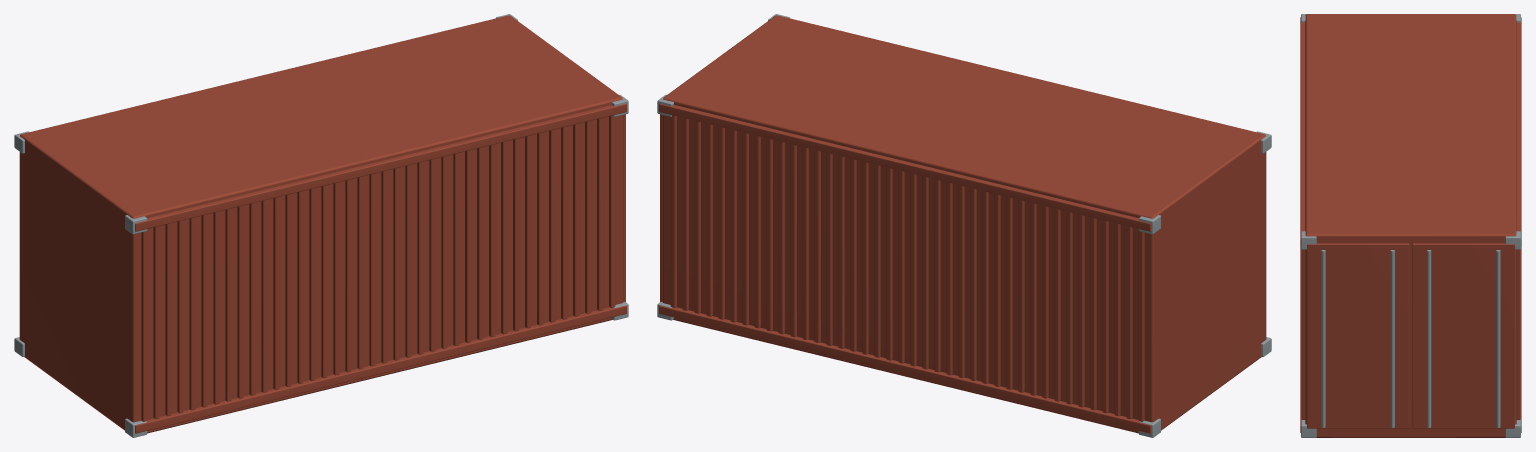
File: SM_ShippingContainer.fbx
3 views of the same model, side by side, from view 1: azimuth 30°, elevation 25°; view 2: azimuth 150°, elevation 25°; view 3: azimuth 270°, elevation 25° (orthographic). The views are drawn at different scales.
Parts seen in each view (by area): view 1: SM_ShippingContainer; view 2: SM_ShippingContainer; view 3: SM_ShippingContainer.
Part boxes in pixels (<box>): SM_ShippingContainer: <box>14,14,628,437</box>; SM_ShippingContainer: <box>657,14,1271,437</box>; SM_ShippingContainer: <box>1300,14,1521,437</box>.
Bounding box in the file's own units: 617 × 256 × 260.
